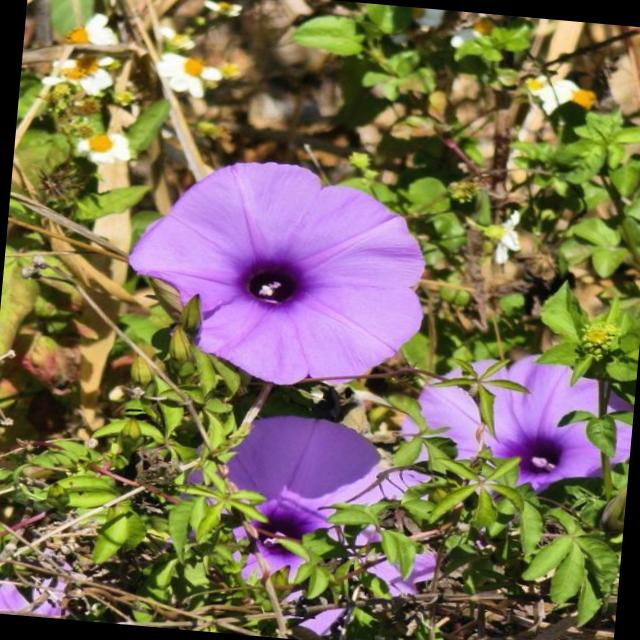ipomoea: (113, 148, 440, 400), (172, 403, 448, 607), (398, 341, 636, 505)
